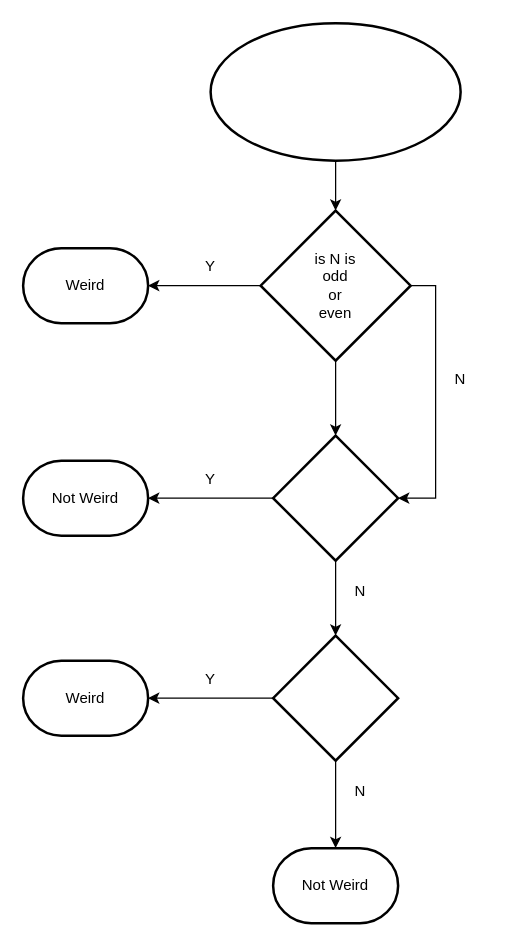
Image size: 519x945. Some labels were removed from this diagram. The shapes that lost their labels are listed below. From the top down, each one's centre as x and y in pixels, then its label:
At (335,91): "N an interger".
At (335,497): "range of 2 to 5?".
At (335,697): "range of 6 to 20?".
